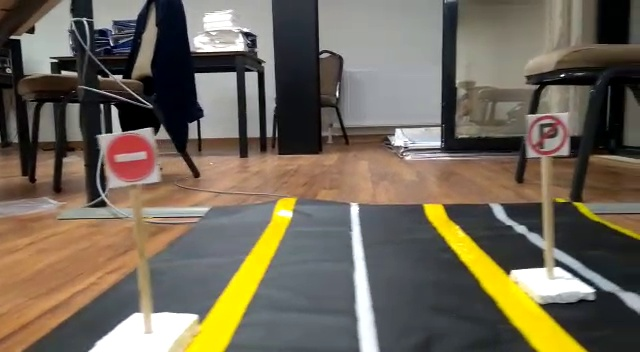girisi_olmayan_yol: (104, 131, 159, 183)
park_yapilmaz: (524, 114, 570, 157)
